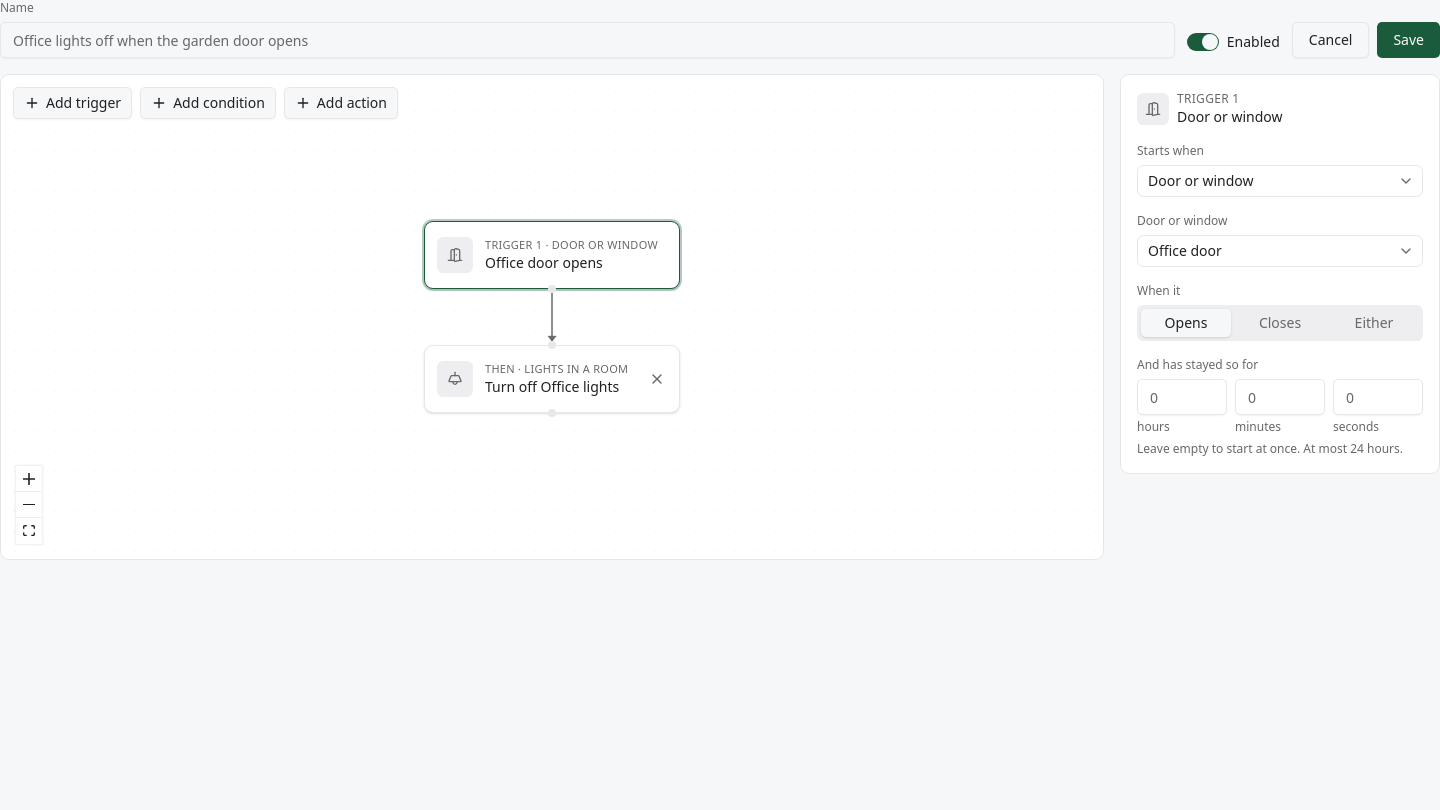
Scenario: AutomationEditor › adds a wait as a step of its own
The width and height of the screenshot is (1440, 810).
Click the button "Add action" at (341,103), box [284,87,398,119]
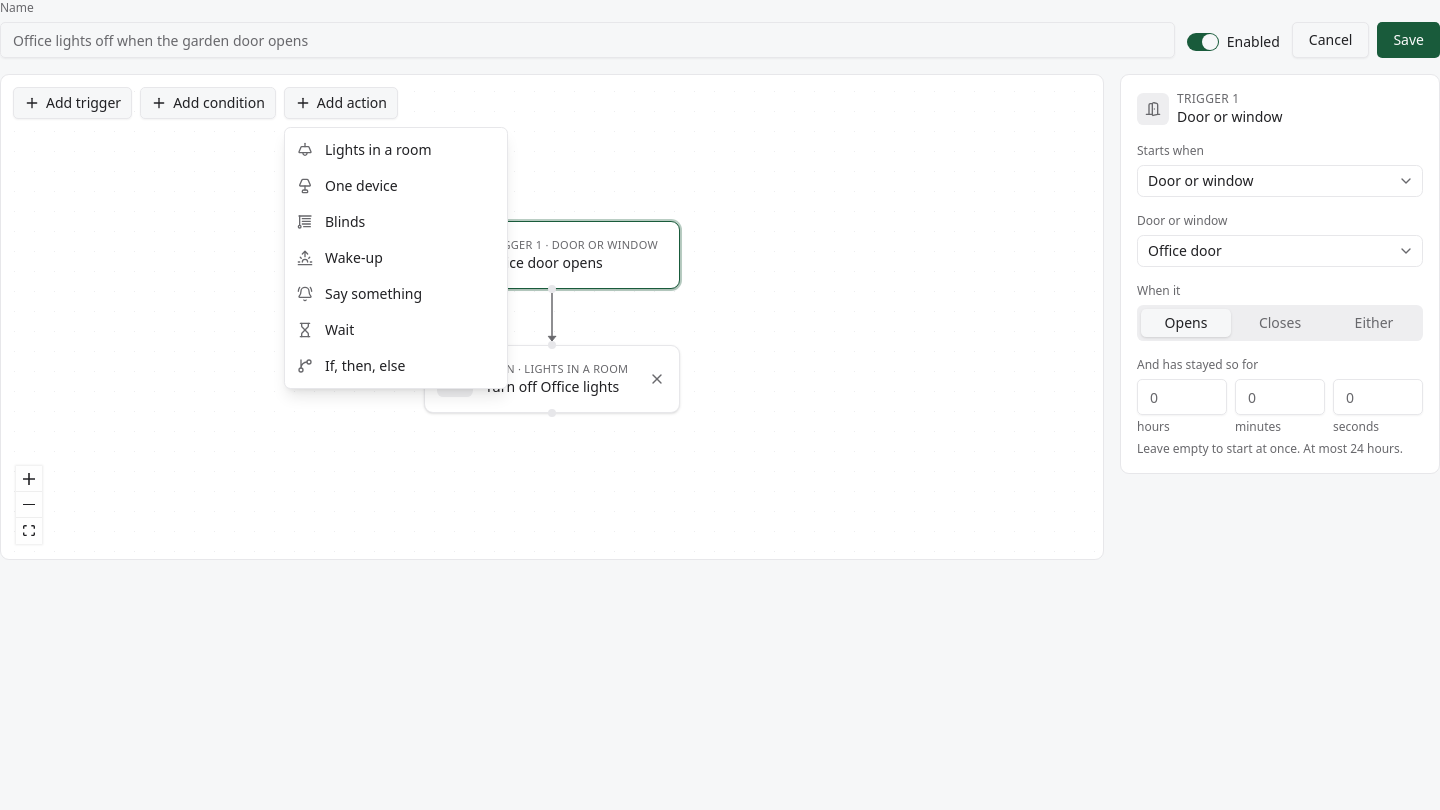
Click the button "Wait" at (396,330), box [289,312,503,348]
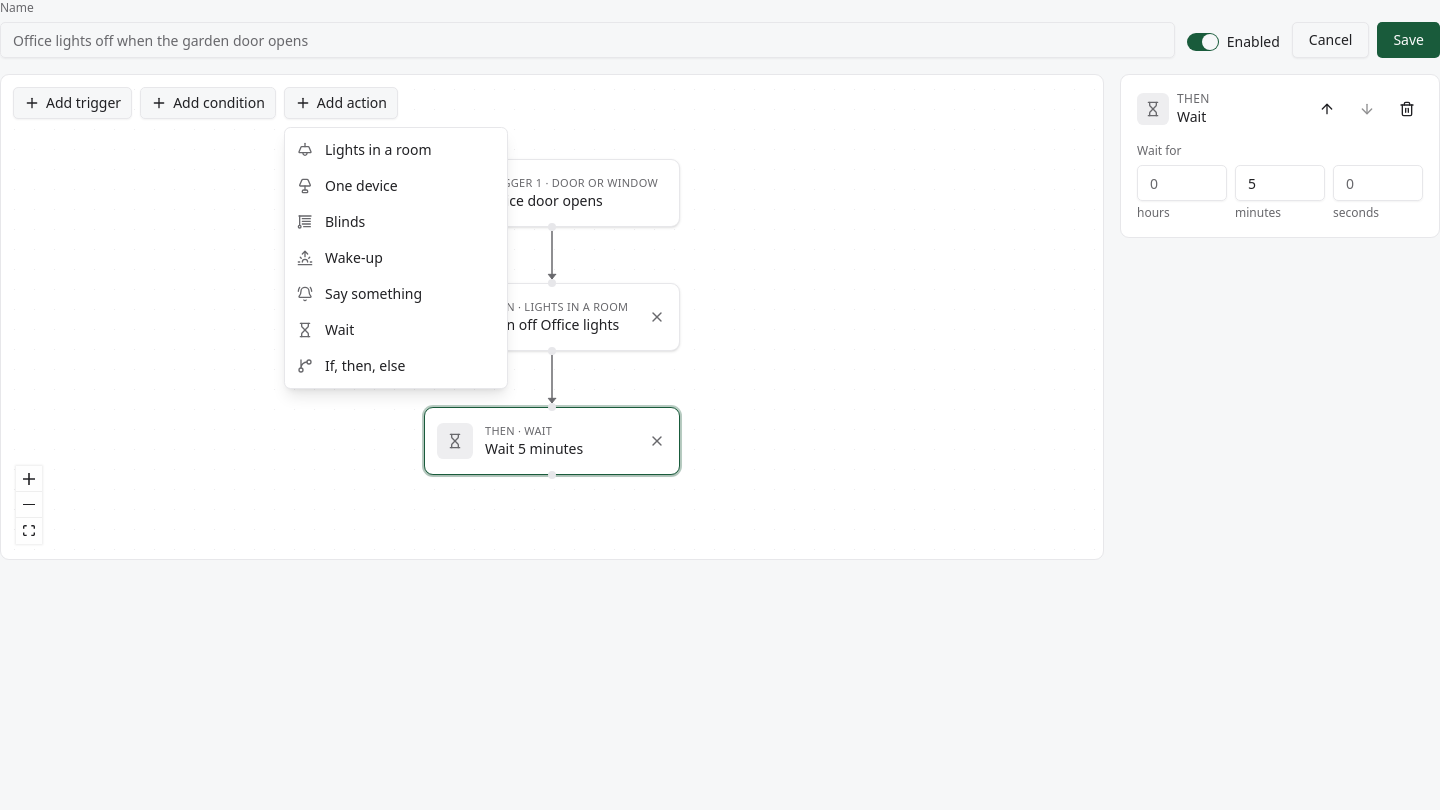
Result: the text "Wait 5 minutes" is shown at [485,439,583,458]
Clear the number field named "Minutes" at (1280,183), box [1235,165,1325,201]
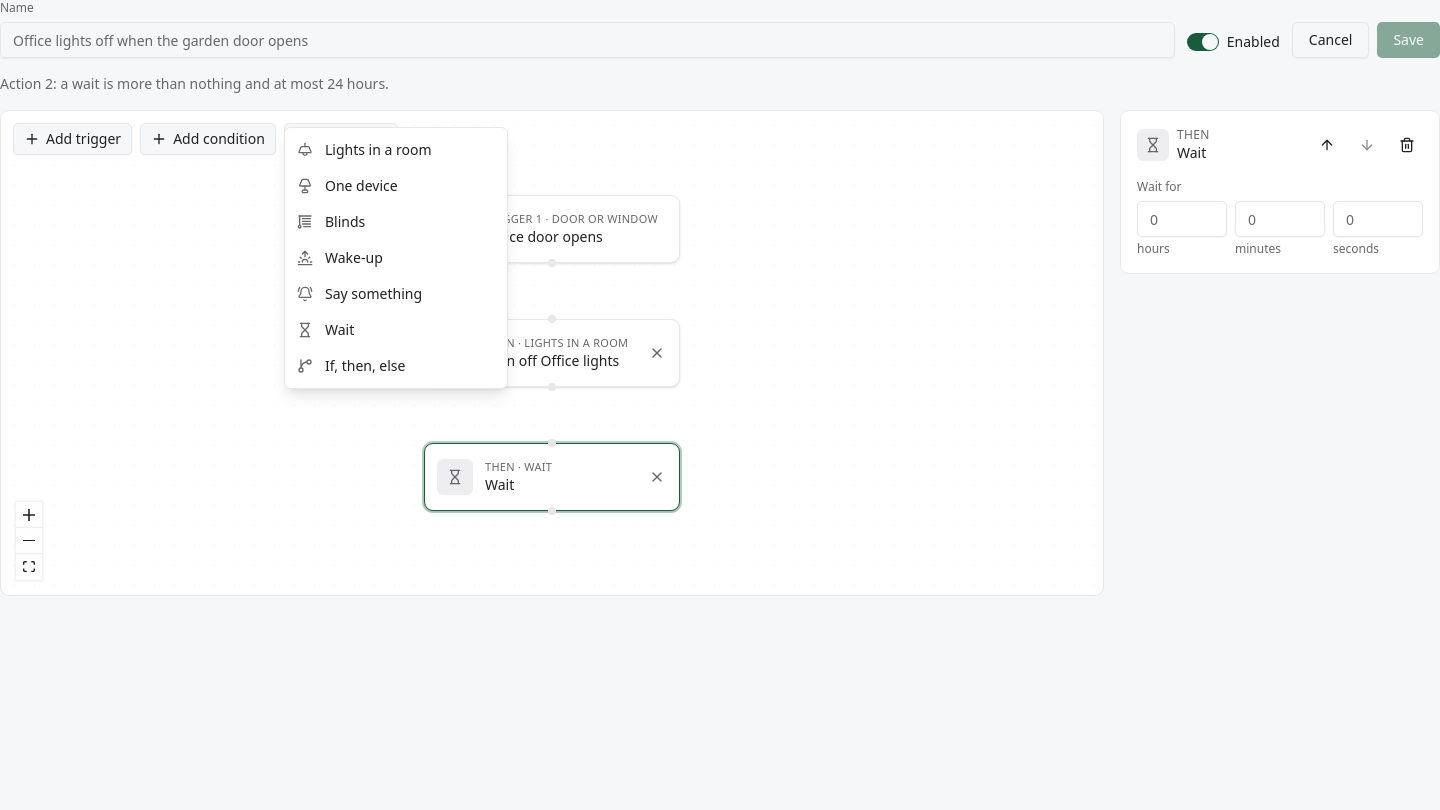
Type "30" into the number field named "Seconds" at (1378,219), box [1333,201,1423,237]
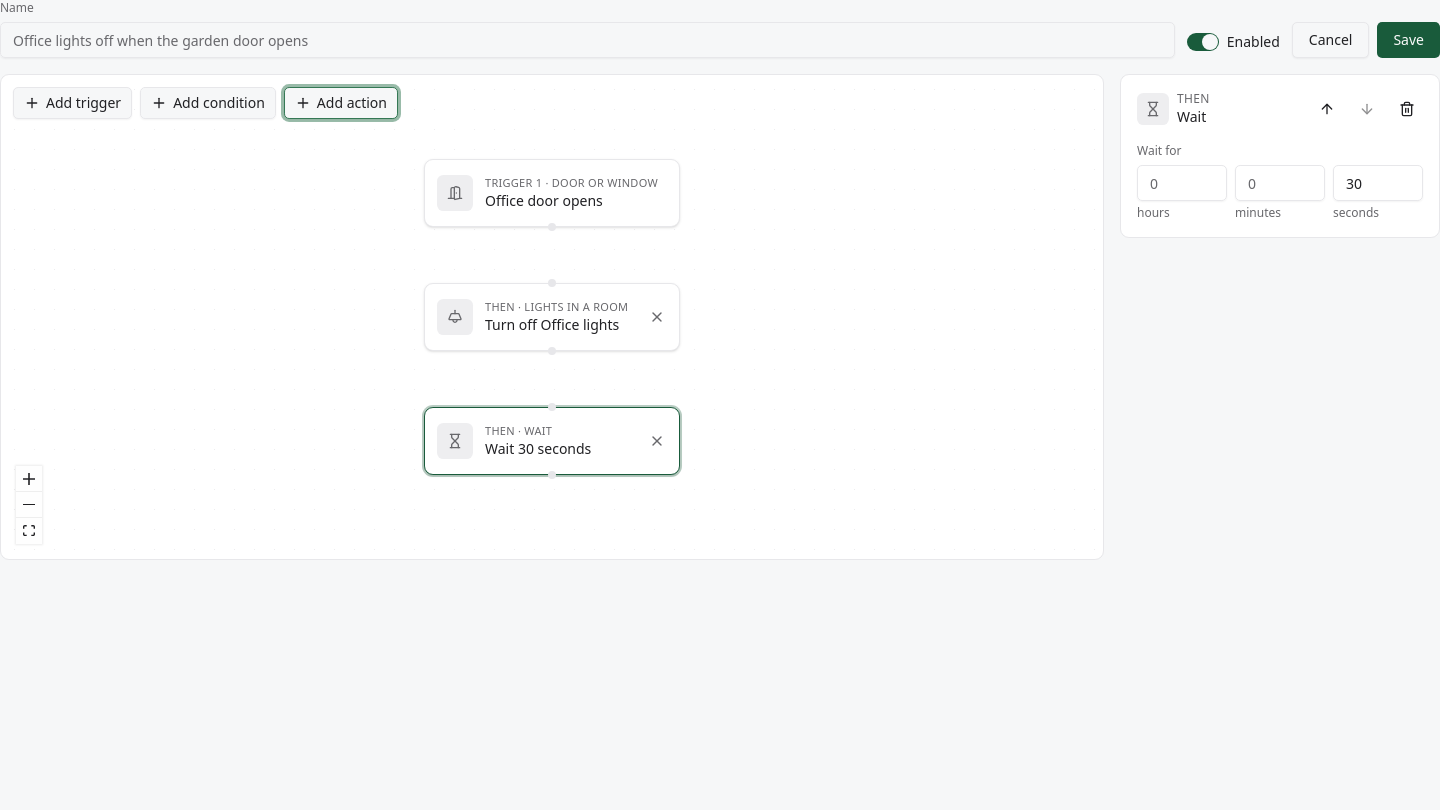
Result: the text "Wait 30 seconds" is shown at [485,439,591,458]
